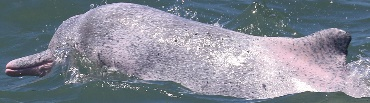fin: (4, 1, 369, 101)
